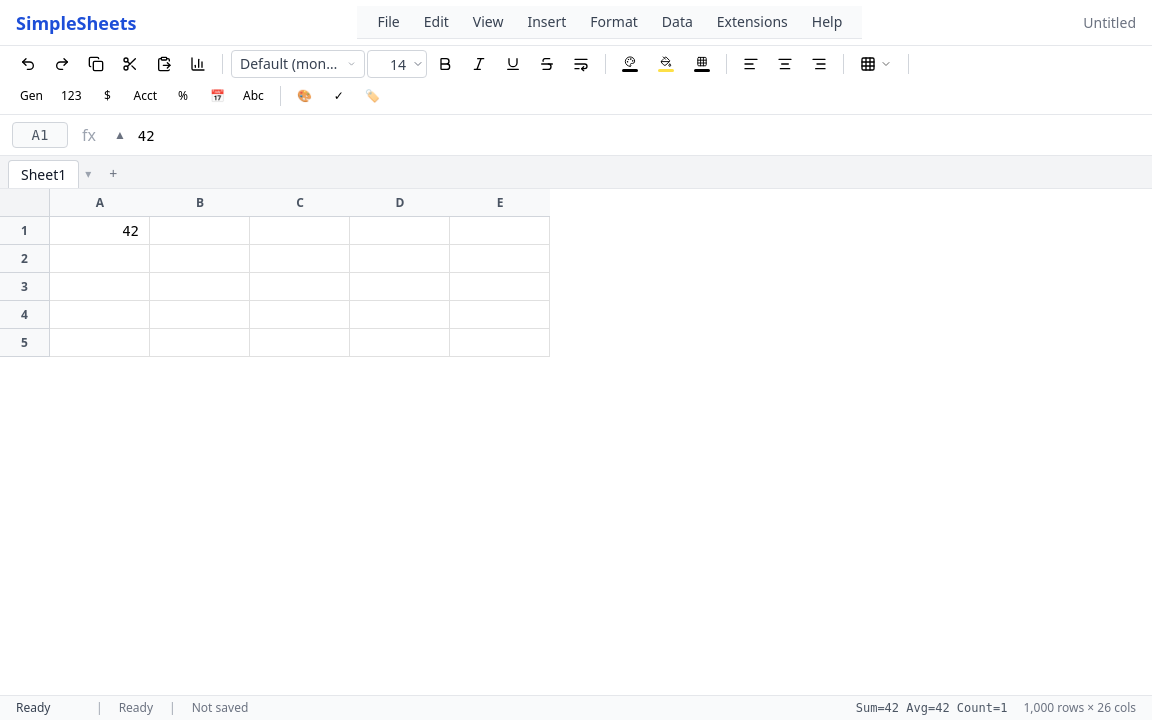
Test: App - Filter Apply and Clear › clears all filters
# Enable filter
Click the button "Data" at (677, 22), box [650, 8, 705, 36]
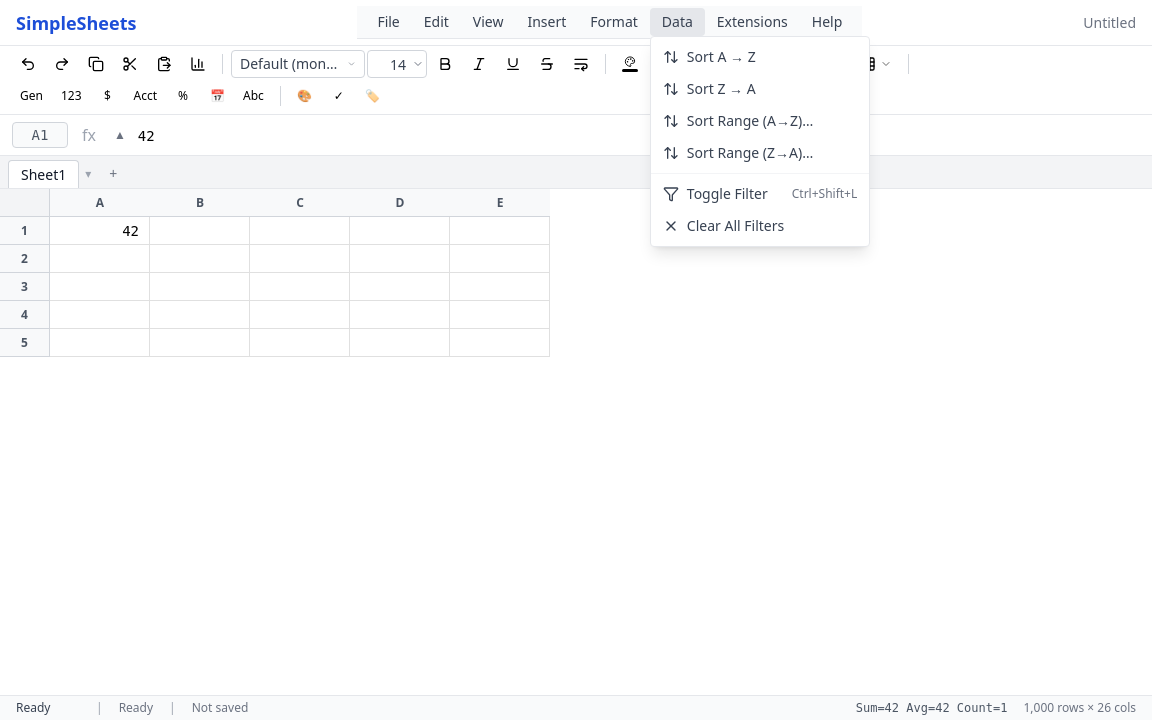
Click the menu item "Toggle Filter Ctrl+Shift+L" at (760, 194), box [663, 184, 857, 203]
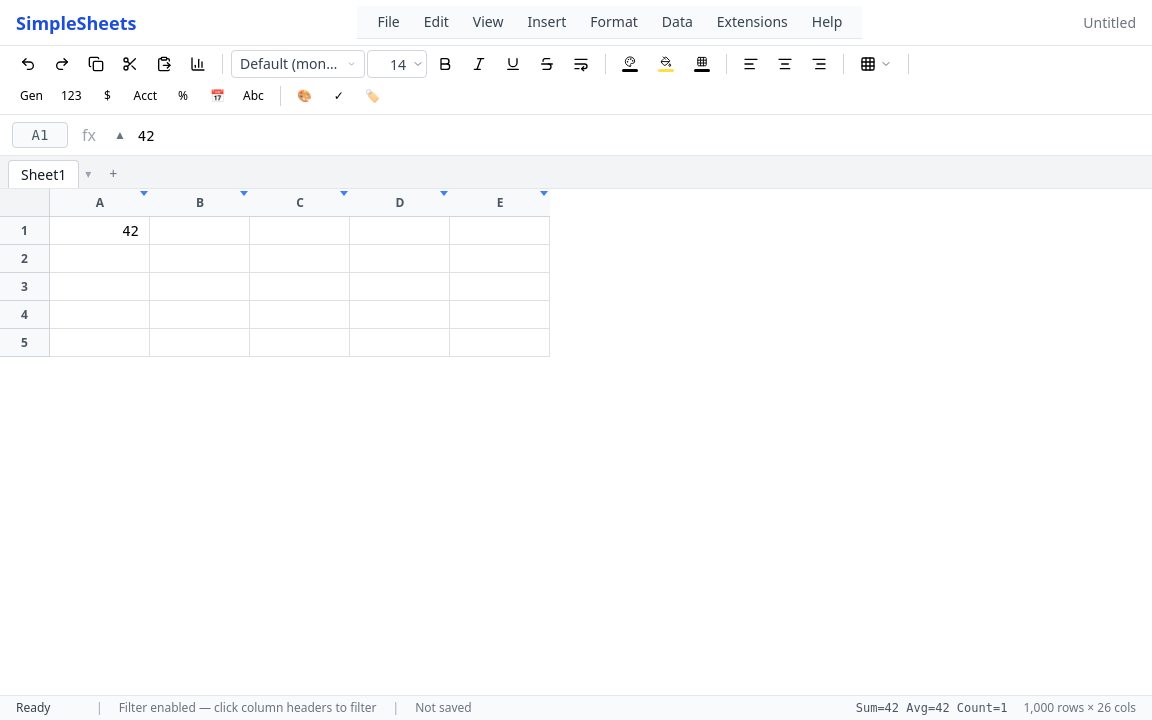
# Clear all filters
Click the button "Data" at (677, 22), box [650, 8, 705, 36]
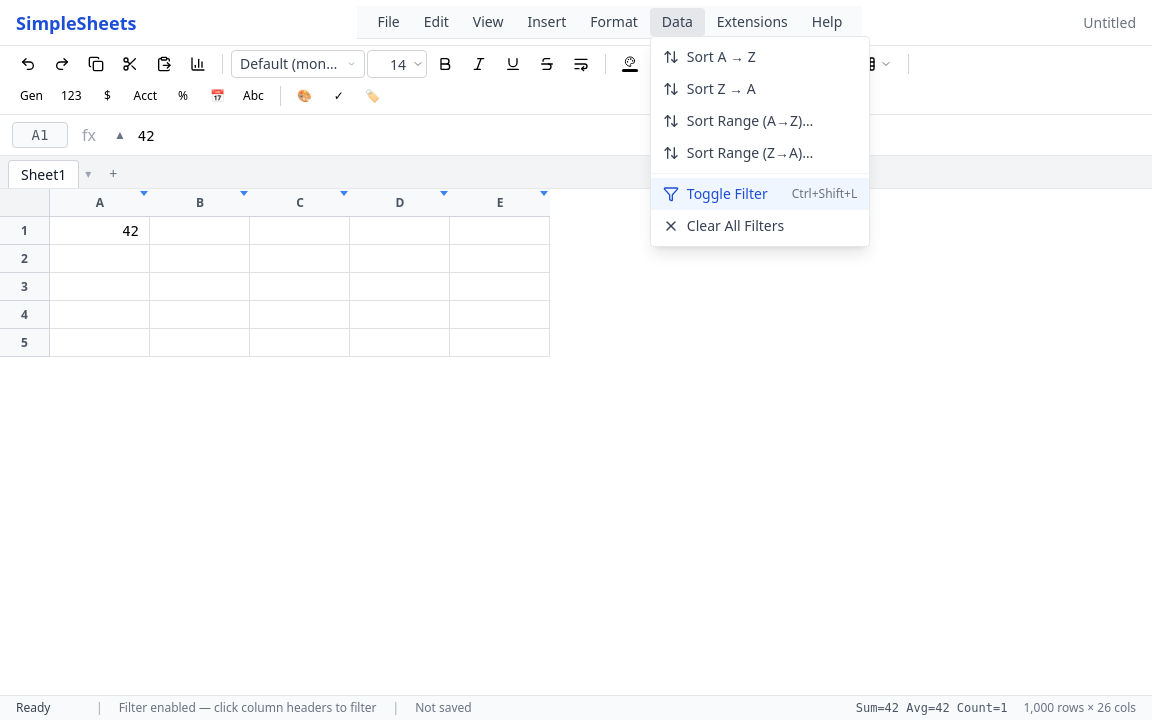
Click the menu item "Clear All Filters" at (724, 226), box [663, 216, 784, 235]
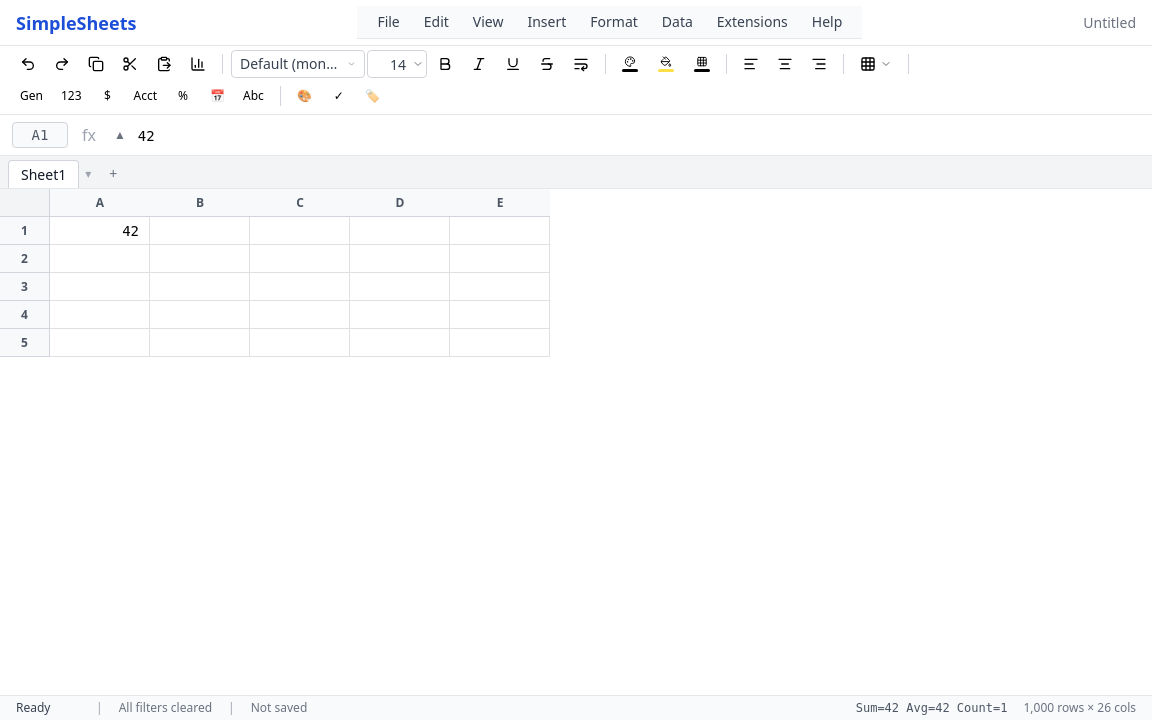
Expected: the text with test id "status-message" shows "cleared", [119, 699, 212, 716]
